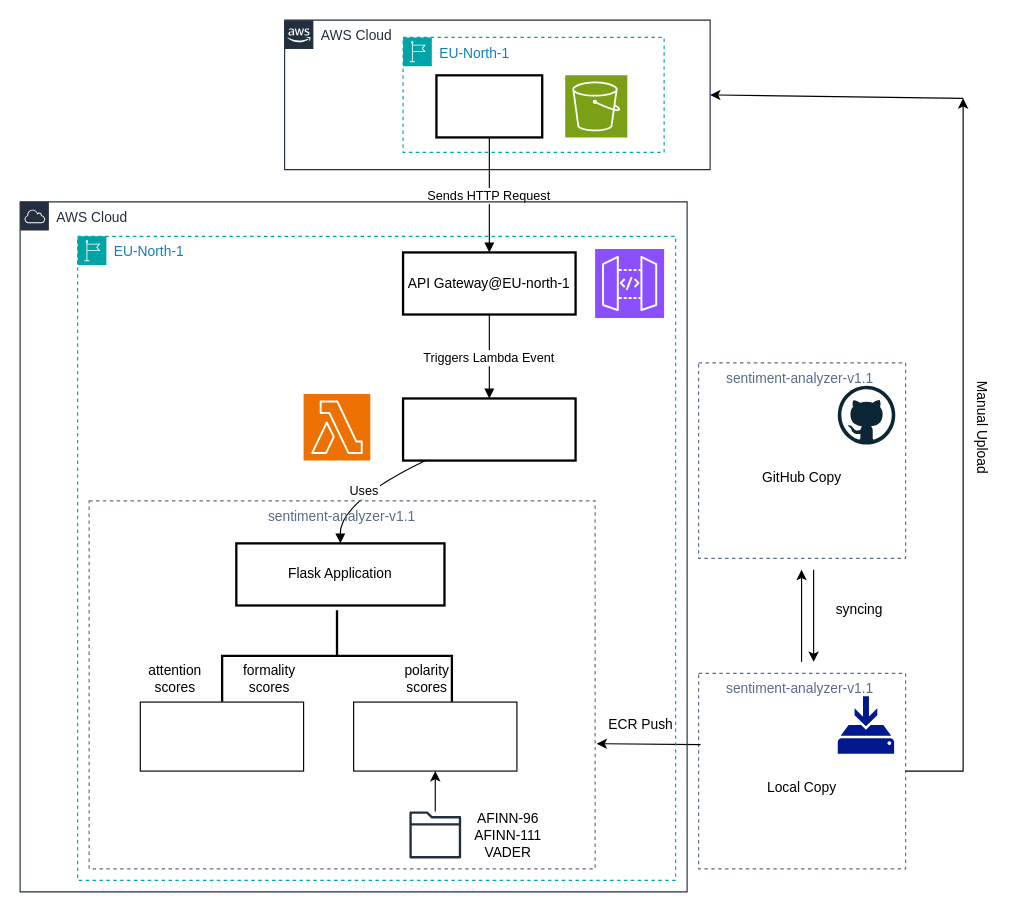
This 1020x912 diagram has some shape labels left out. Here are the shapes that lost their labels. From the top down, the centre of each, then its label:
point 489,106: User/Front End served from S3 Bucket
point 488,429: AWS Lambda@EU-north-1
point 221,736: model2_atn
point 434,736: Polarity Analyzer
